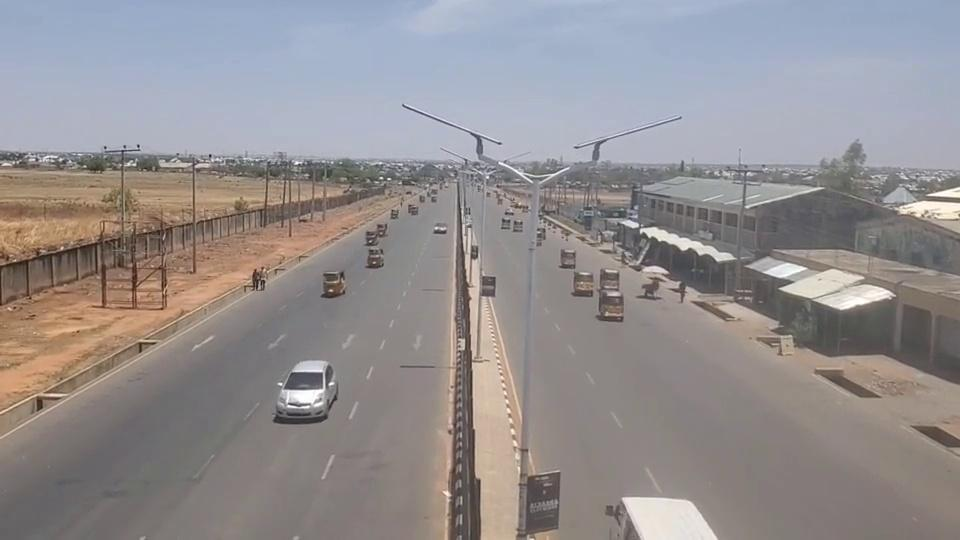bus: (613, 496, 721, 540)
car: (276, 360, 338, 419)
keke: (598, 289, 624, 321), (321, 269, 346, 296), (572, 270, 594, 296), (599, 267, 620, 291), (366, 247, 385, 267), (560, 248, 576, 268)
